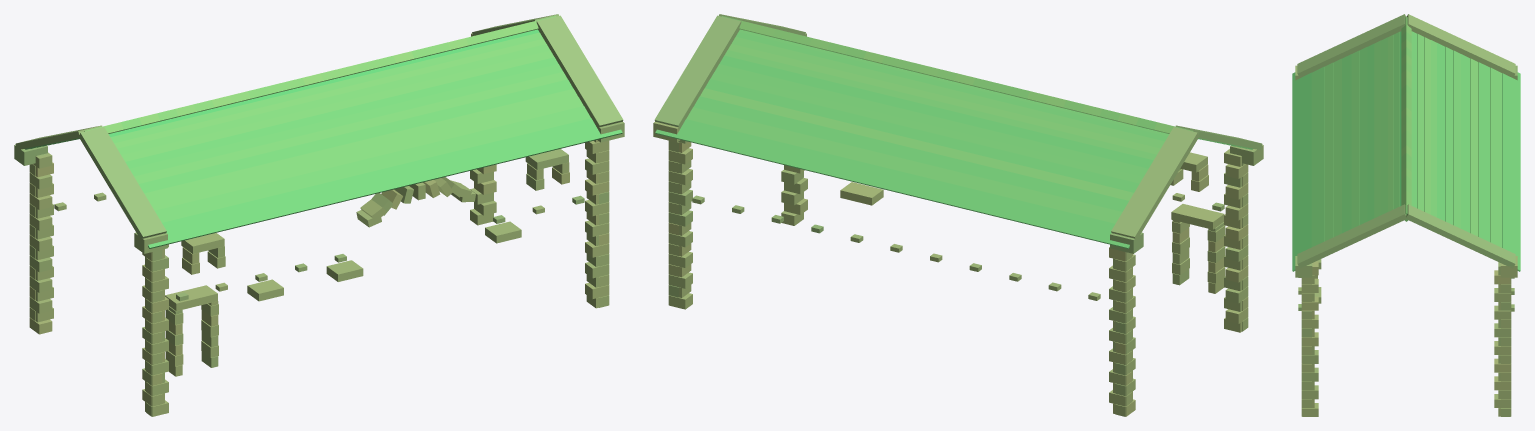
The model's file is SM_Bld_001_Stone.glb.
3 views of the same model, side by side, from view 1: azimuth 30°, elevation 25°; view 2: azimuth 150°, elevation 25°; view 3: azimuth 270°, elevation 25° (orthographic). The views are drawn at different scales.
Parts seen in each view (by area): view 1: SM_Bld_001_Stone; view 2: SM_Bld_001_Stone; view 3: SM_Bld_001_Stone.
Boxes of the visible parts, left/top/right/bottom form: SM_Bld_001_Stone: left=14, top=14, right=624, bottom=416; SM_Bld_001_Stone: left=653, top=14, right=1263, bottom=416; SM_Bld_001_Stone: left=1292, top=14, right=1520, bottom=416.
Bounding box in the file's own units: 14.55 × 7.04 × 7.02.
